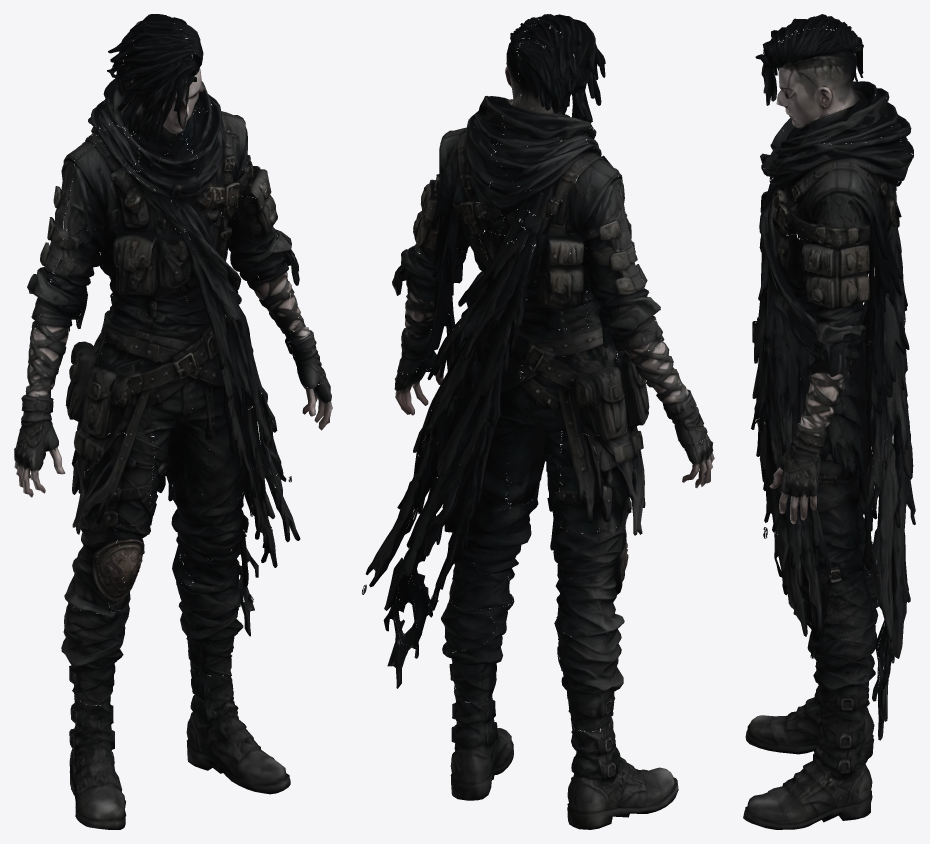
The model's file is ryu_tex_lo.glb.
3 renders of one model, left to right at view 1: azimuth 30°, elevation 25°; view 2: azimuth 150°, elevation 25°; view 3: azimuth 270°, elevation 25°, orthographic.
Visible parts, largest first — view 1: Mesh; view 2: Mesh; view 3: Mesh.
Part boxes in pixels (box(x1,y1,x2,y2)): Mesh: box(14, 14, 332, 829); Mesh: box(362, 14, 714, 829); Mesh: box(743, 14, 915, 829).
Bounding box in the file's own units: 0.7475 × 1.78 × 0.3651.
1 material, 1 textured.
